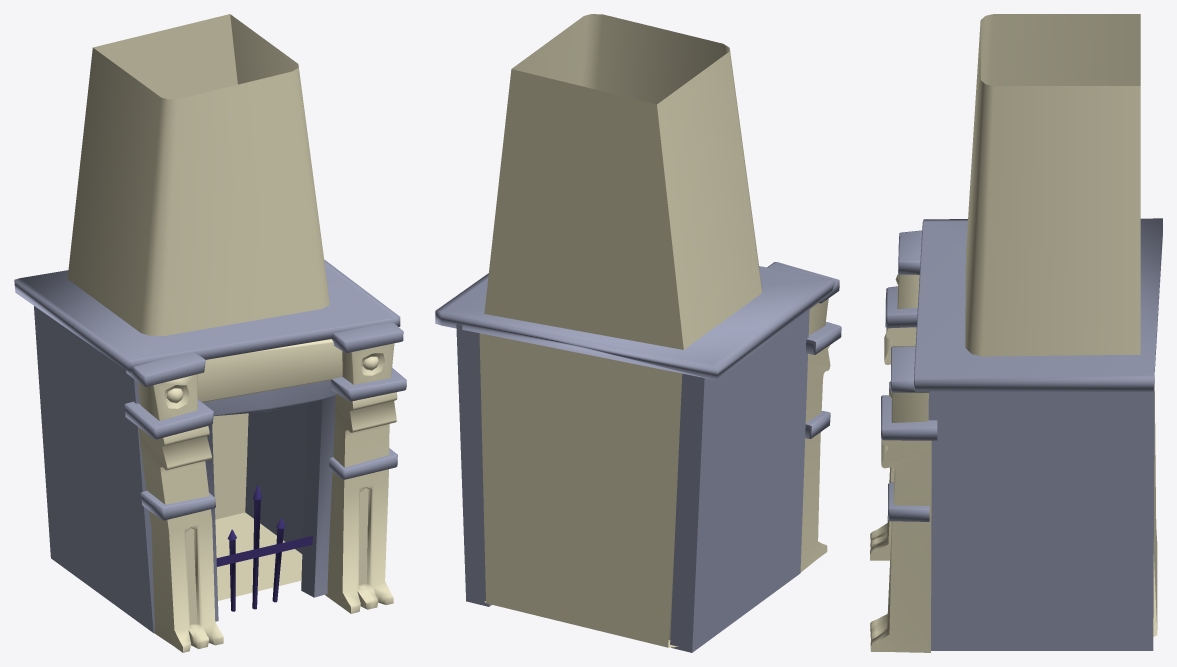
Rendered from props_Cheminee.fbx.
3 renders of one model, left to right at view 1: azimuth 30°, elevation 25°; view 2: azimuth 150°, elevation 25°; view 3: azimuth 270°, elevation 25°, orthographic. The views are drawn at different scales.
Parts seen in each view (by area): view 1: Cube.003; view 2: Cube.003; view 3: Cube.003.
Part boxes in pixels (<box>): Cube.003: <box>14,14,406,652</box>; Cube.003: <box>435,14,841,652</box>; Cube.003: <box>870,14,1162,652</box>.
Bounding box in the file's own units: 3.39 × 2.95 × 6.08.
